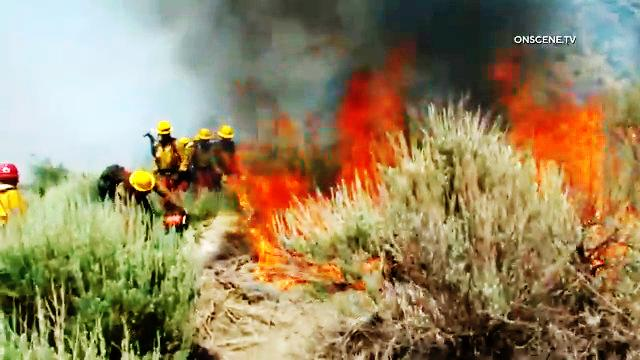fire: (242, 68, 402, 269), (494, 66, 605, 206)
smoke: (196, 0, 461, 61)
